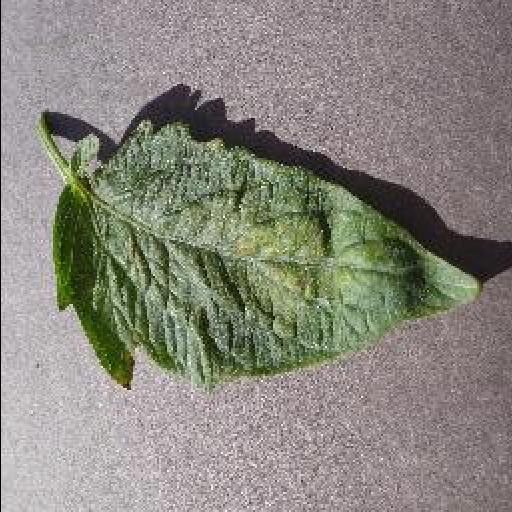disease_tomato: (52, 120, 484, 392)
